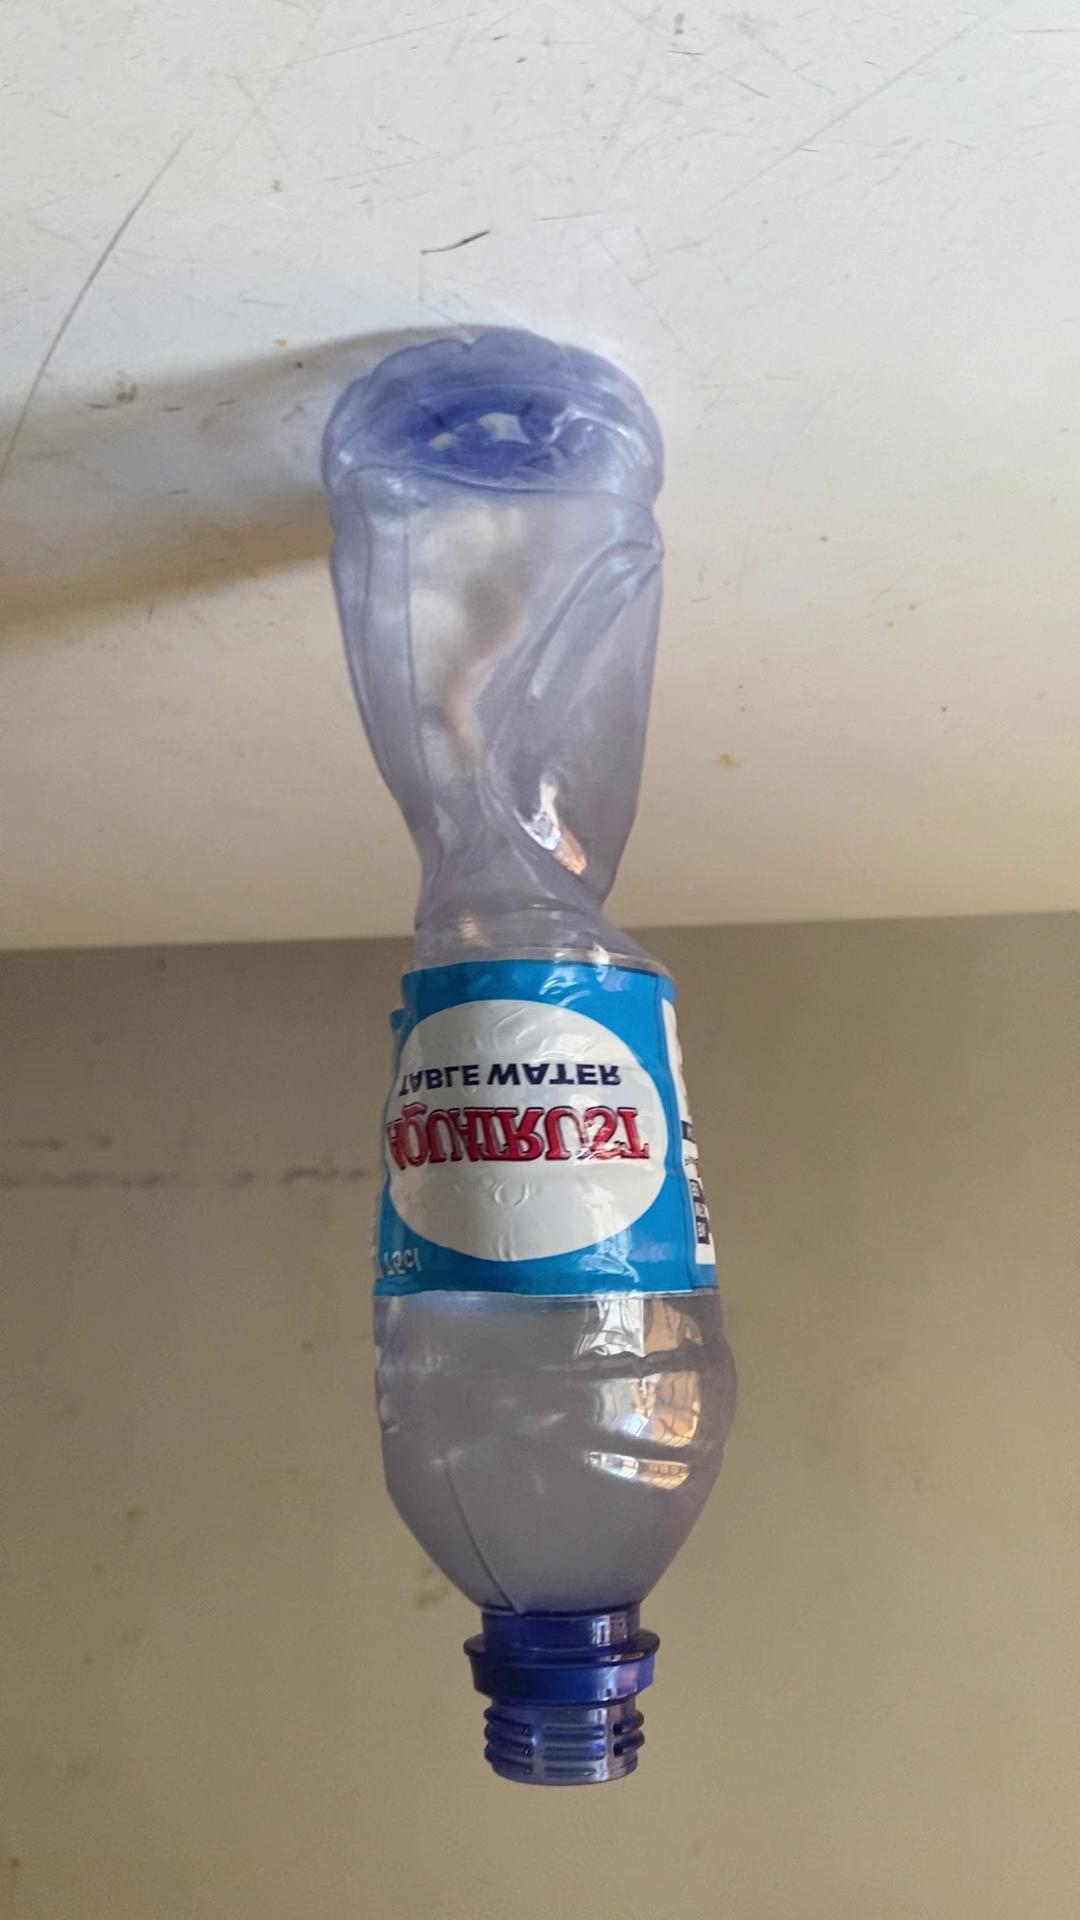crumbled: (310, 319, 741, 1800)
label: (375, 965, 691, 1294)
no-cap: (468, 1639, 654, 1796)
